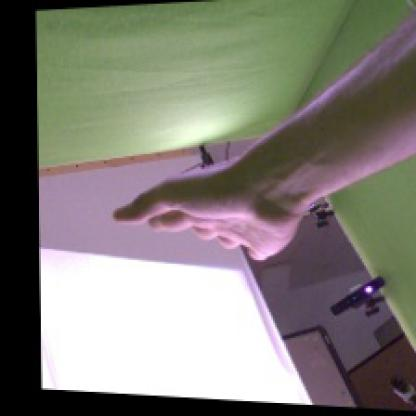Hand: (112, 161, 303, 262)
